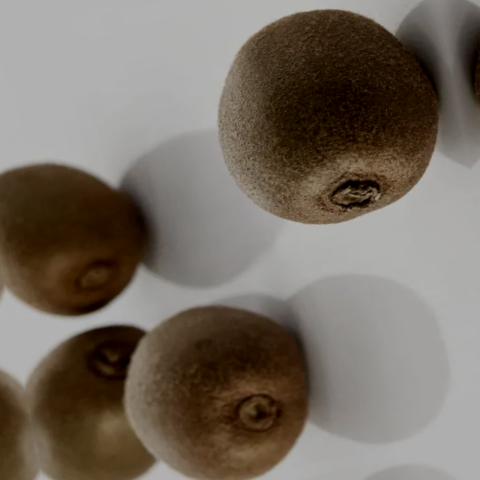kiwi: (179, 0, 473, 264), (102, 261, 342, 480)
